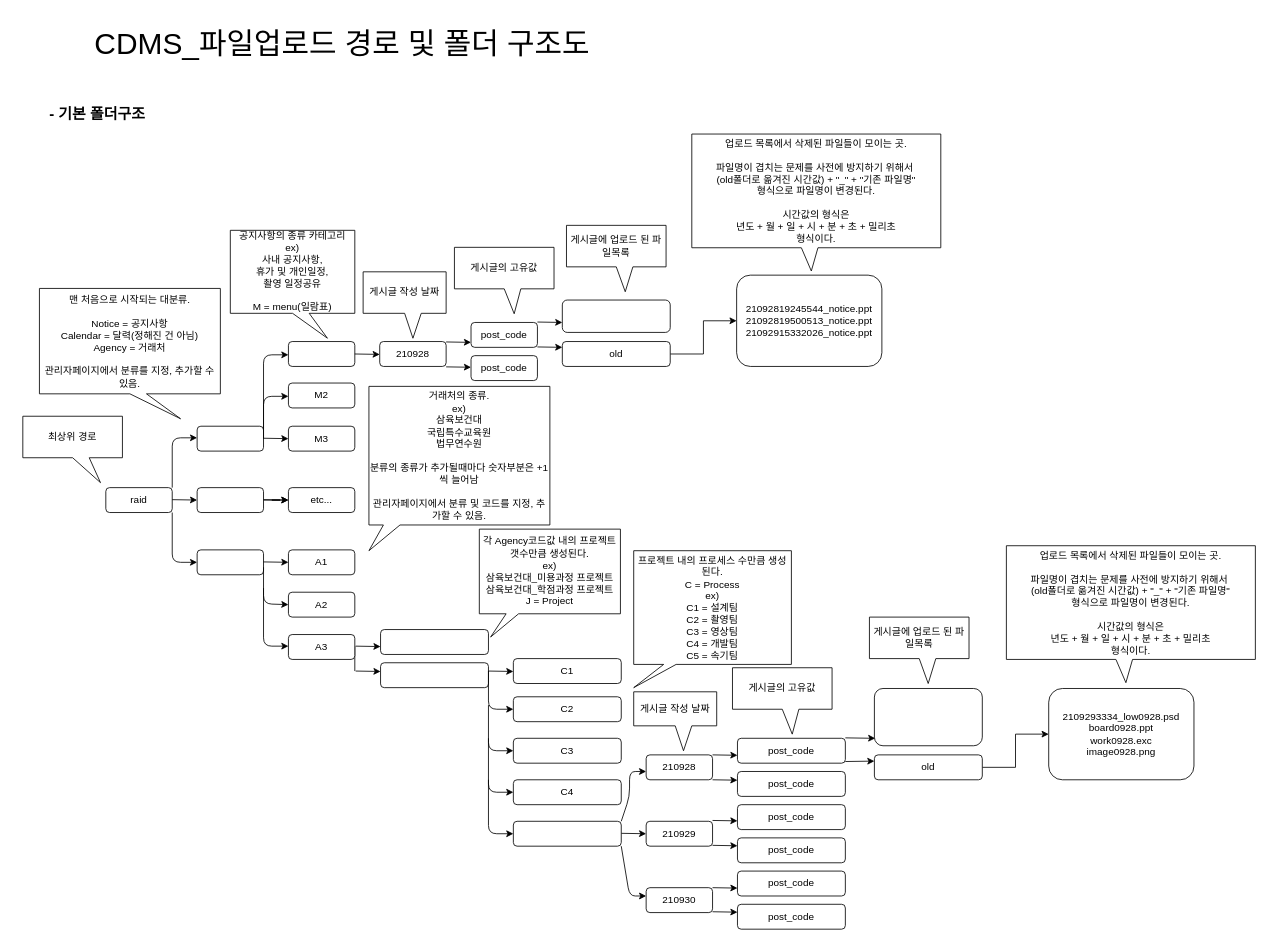
Some shapes in this 1270 by 944 pixel diagram are drawn without their labels. Each missing label, with the centre of its shape:
Agency: the point at 230,562
C5: the point at 567,833
Calendar: the point at 230,500
J1: the point at 434,641
J2: the point at 434,675
low0930.psd board0930.ppt work0930.exc image0930.png: the point at 928,717
M1: the point at 321,353
Notice: the point at 230,438
notice.ppt: the point at 615,315
